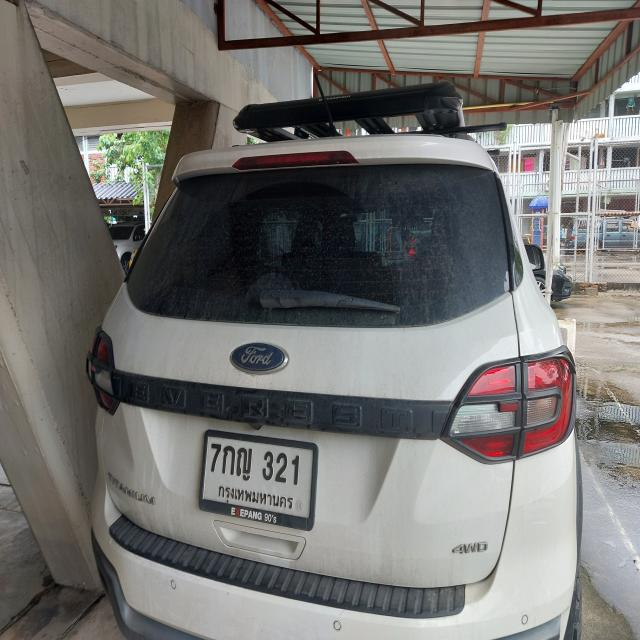license_plate: (196, 428, 319, 534)
